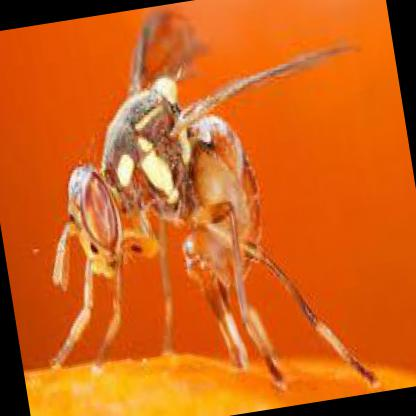fruit fly: (47, 14, 378, 386)
